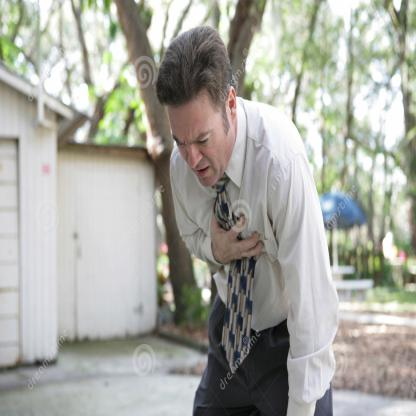pain: (166, 124, 219, 152)
